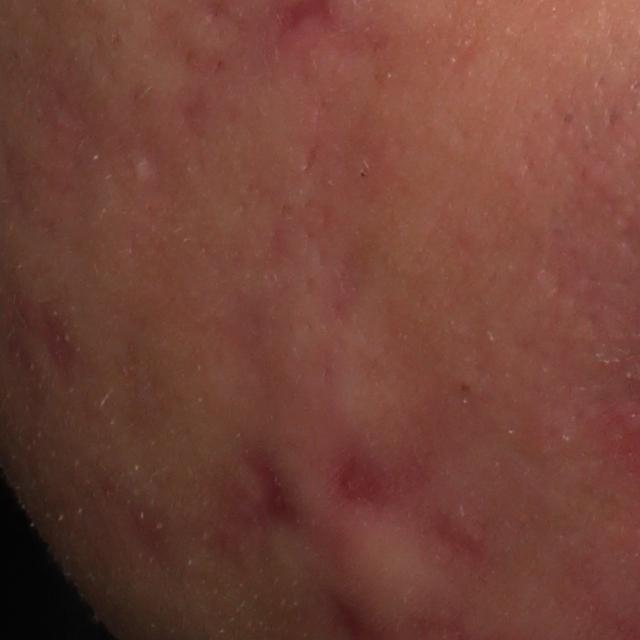atrophic_scar: (324, 430, 442, 513), (235, 442, 315, 543)
hypertrophic_scar: (425, 501, 497, 588)
